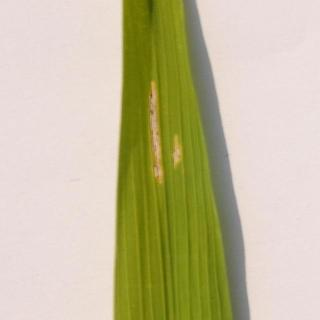Hawar-Daun: (117, 16, 199, 302)
